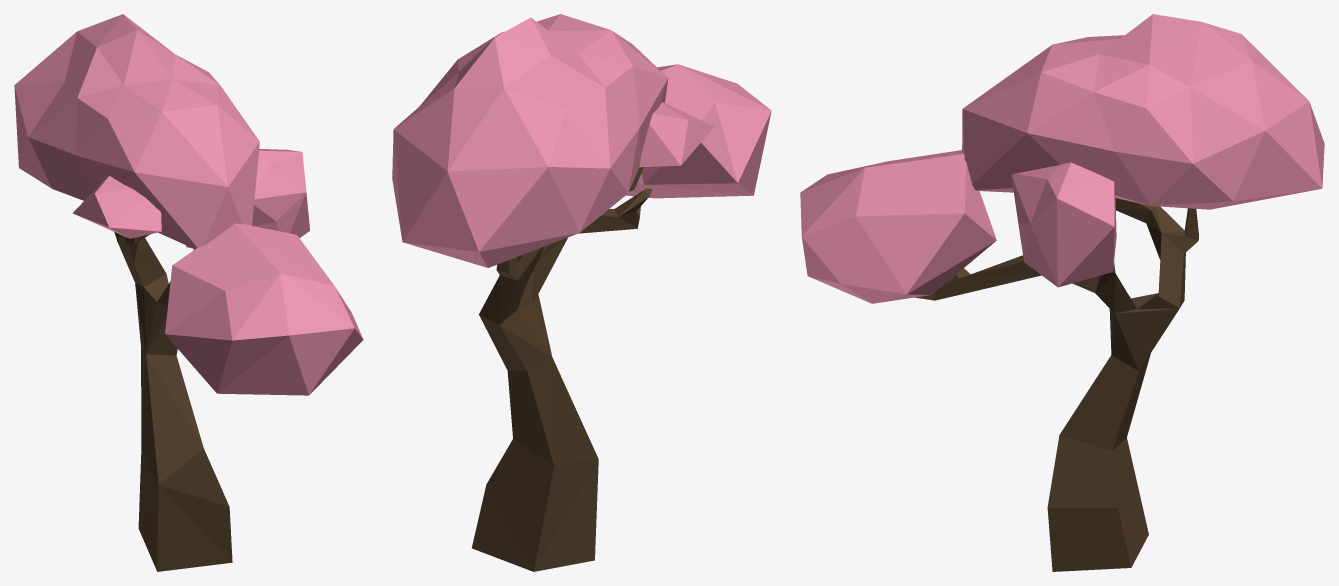
The model's file is Arvore01.fbx.
The picture shows the model from 3 angles, left to right: view 1: azimuth 30°, elevation 25°; view 2: azimuth 150°, elevation 25°; view 3: azimuth 270°, elevation 25°; orthographic projection. The views are drawn at different scales.
Parts seen in each view (by area): view 1: Cube.088; view 2: Cube.088; view 3: Cube.088.
Boxes of the visible parts, <box> form: Cube.088: <box>14,14,363,571</box>; Cube.088: <box>392,14,771,571</box>; Cube.088: <box>800,14,1324,571</box>.
Bounding box in the file's own units: 338 × 711 × 633.
